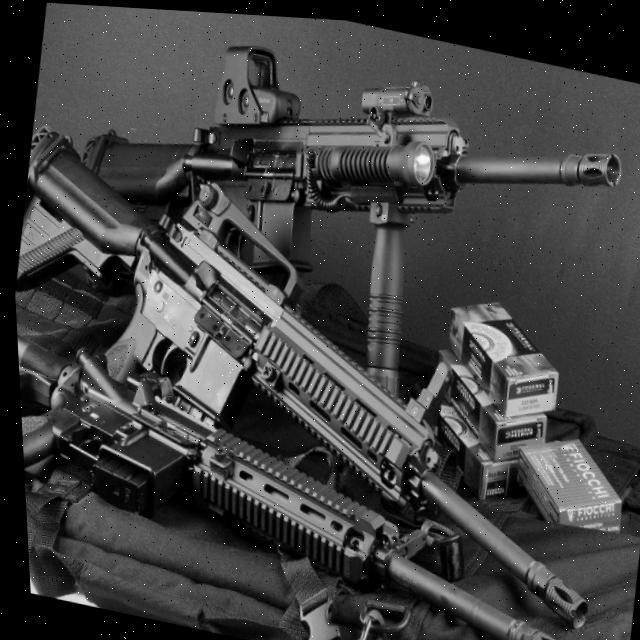firearm: (5, 120, 639, 629), (13, 310, 607, 640), (61, 4, 635, 339)
